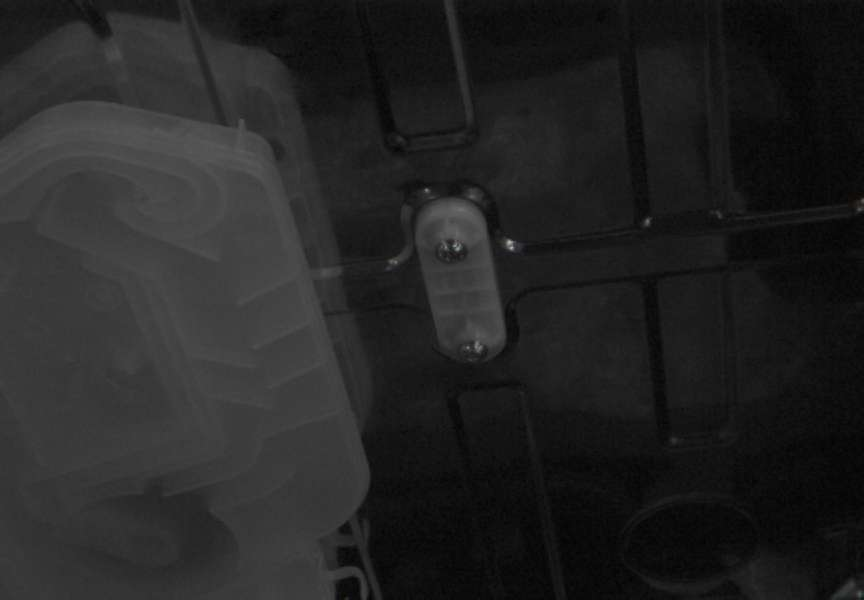screw: (435, 238, 468, 264), (458, 340, 488, 363)
